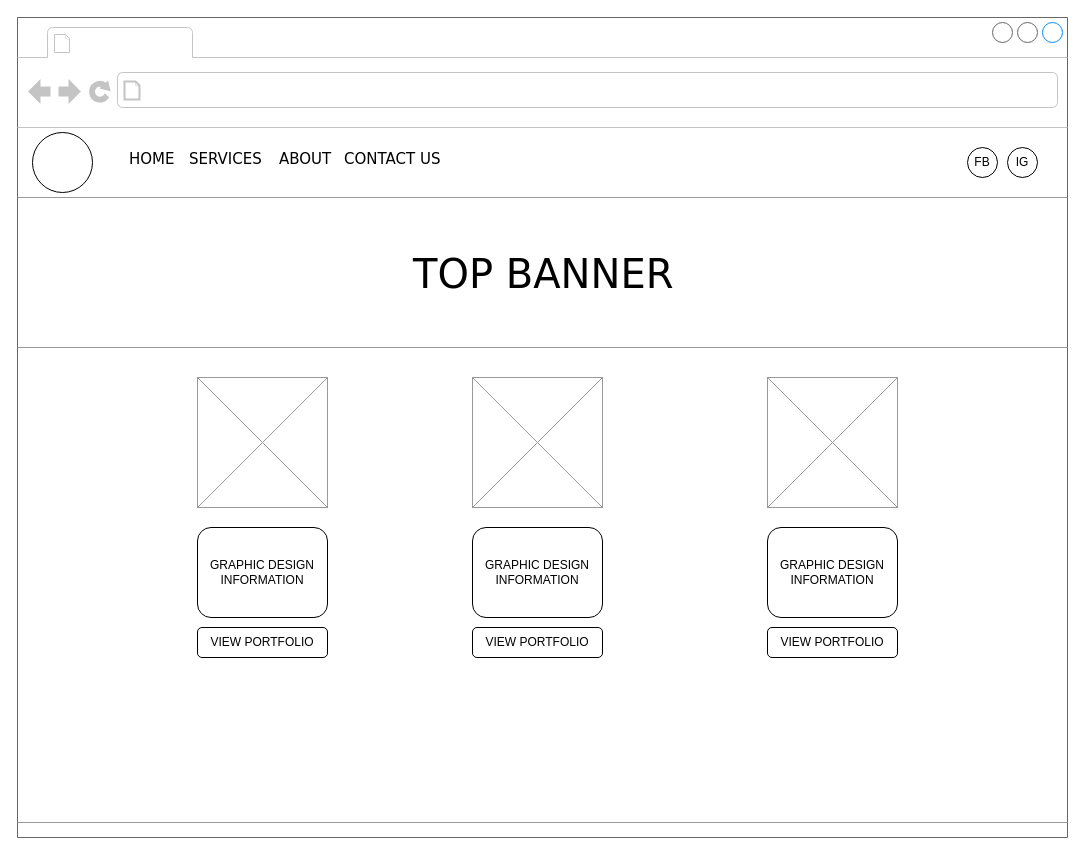
Image size: 1085x855. Some labels were removed from this diagram. The shapes that lost their labels are listed below. From the top down, each one's box as (x1, y1, x2, y2) in pixels, then its label:
(76, 28, 188, 56): HOME PAGE
(146, 76, 398, 104): https://www.ihypesfmedia.com/home
(32, 132, 92, 192): LOGO
